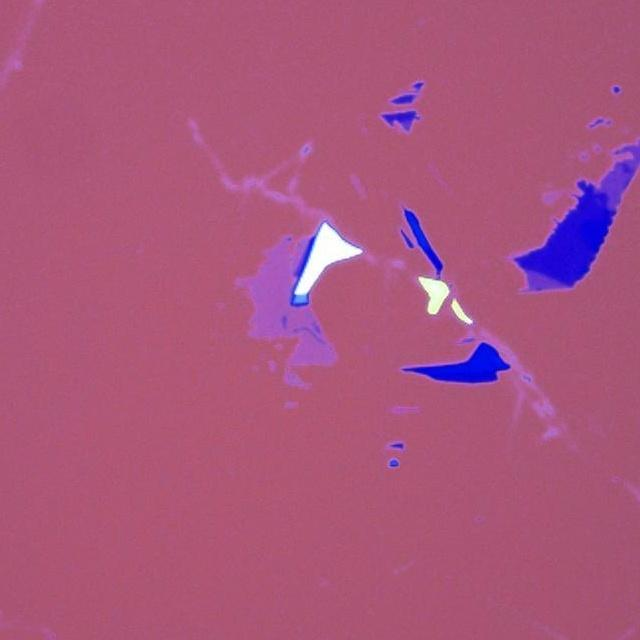monolayer-eWW4: (240, 232, 338, 371)
